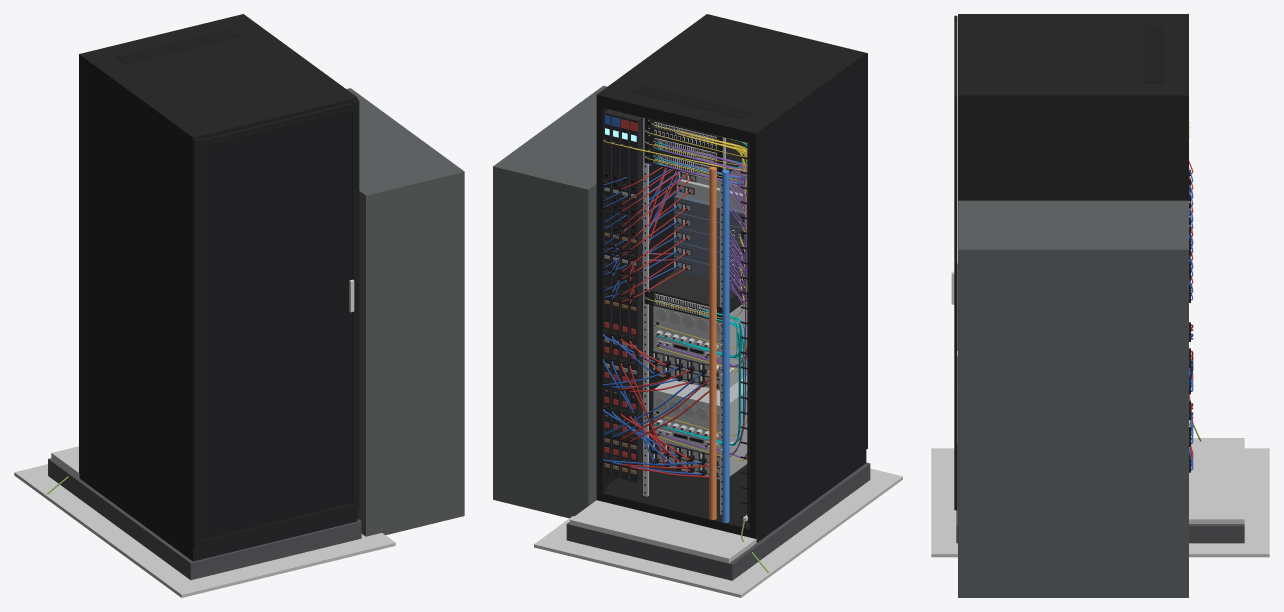
Rendered from W1_rack_E_raw.glb.
The picture shows the model from 3 angles, left to right: view 1: azimuth 30°, elevation 25°; view 2: azimuth 150°, elevation 25°; view 3: azimuth 270°, elevation 25°; orthographic projection. The views are drawn at different scales.
Parts seen in each view (by area): view 1: W1E_R01:FrontDoor, W1E_R01:SidePanel_L, W1E_W1E_CDU, W1E_R01:Top, W1E_R01:Spreader, W1E_R01:Plinth, W1E_R01:FrontDoorStileL, W1E_R01:FrontDoorStileR, W1E_R01:Base, W1E_R01:Post-11, W1E_R01:Post-1-1, W1E_R01:FrontDoorRailT (+2 smaller); view 2: W1E_R01:SidePanel_L, W1E_W1E_CDU, W1E_R01:Top, W1E_R01:Spreader, W1E_R01:Base, W1E_R01:Plinth, W1E_R01:CondensateTray, W1E_R01:Post-1-1, W1E_R01:N1_Body, W1E_R01:PDU_A1, W1E_R01:Post1-1, W1E_R01:SidePanel_R (+22 smaller); view 3: W1E_W1E_CDU, W1E_R01:SidePanel_R, W1E_R01:Top, W1E_R01:Spreader, W1E_R01:CondensateTray, W1E_R01:FrontDoorStileR, W1E_R01:Plinth, W1E_R01:TopBrush, W1E_R01:Post1-1, W1E_R01:Post11.
Part boxes in pixels (x1,y1,x2,y2): W1E_R01:FrontDoor: [201, 111, 352, 539]; W1E_R01:SidePanel_L: [82, 66, 189, 557]; W1E_W1E_CDU: [346, 88, 464, 536]; W1E_R01:Top: [79, 14, 357, 148]; W1E_R01:Spreader: [14, 464, 395, 597]; W1E_R01:Plinth: [48, 458, 361, 580]; W1E_R01:FrontDoorStileL: [193, 138, 201, 546]; W1E_R01:FrontDoorStileR: [351, 99, 359, 508]; W1E_R01:Base: [79, 465, 357, 561]; W1E_R01:Post-11: [189, 133, 199, 558]; W1E_R01:Post-1-1: [79, 55, 82, 466]; W1E_R01:FrontDoorRailT: [193, 102, 359, 148]; W1E_R01:SidePanel_L: [759, 56, 862, 527]; W1E_W1E_CDU: [493, 85, 606, 518]; W1E_R01:Top: [596, 14, 865, 144]; W1E_R01:Spreader: [534, 468, 902, 597]; W1E_R01:Base: [596, 450, 866, 542]; W1E_R01:Plinth: [566, 462, 870, 580]; W1E_R01:CondensateTray: [570, 500, 756, 563]; W1E_R01:Post-1-1: [749, 130, 759, 542]; W1E_R01:N1_Body: [653, 375, 747, 479]; W1E_R01:PDU_A1: [630, 115, 642, 482]; W1E_R01:Post1-1: [596, 92, 606, 494]; W1E_R01:SidePanel_R: [606, 108, 678, 485]; W1E_W1E_CDU: [958, 200, 1188, 597]; W1E_R01:SidePanel_R: [966, 96, 1181, 200]; W1E_R01:Top: [958, 14, 1188, 107]; W1E_R01:Spreader: [931, 448, 1269, 557]; W1E_R01:CondensateTray: [1189, 438, 1244, 524]; W1E_R01:FrontDoorStileR: [954, 93, 957, 508]; W1E_R01:Plinth: [956, 444, 1244, 543]; W1E_R01:TopBrush: [1144, 25, 1163, 82]; W1E_R01:Post1-1: [1181, 92, 1188, 200]; W1E_R01:Post11: [958, 93, 965, 200].
Bounding box in the file's own units: 1.8 × 2.58 × 1.76.
